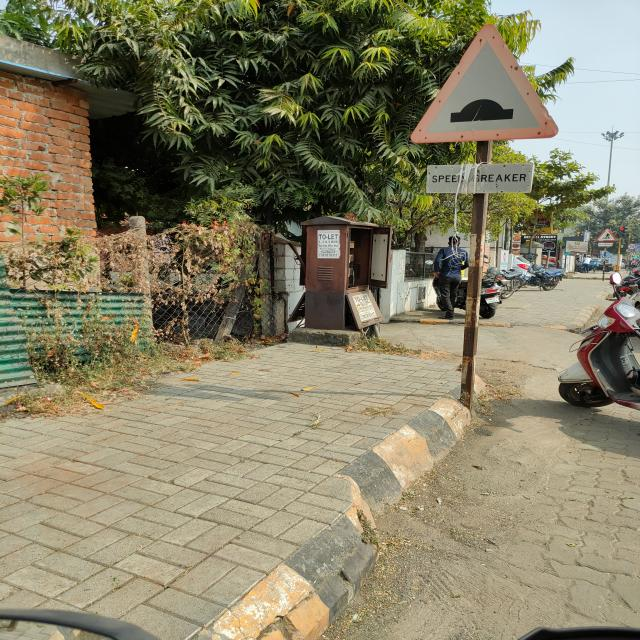HUMP_OR_ROUGH_ROAD: (410, 24, 559, 143)
